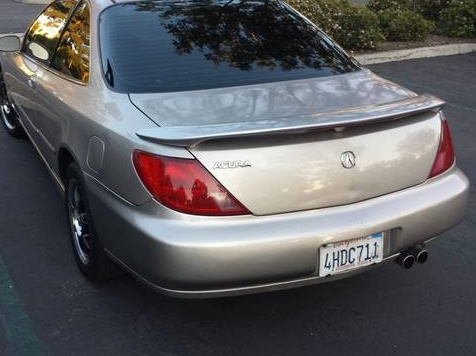acura: (1, 1, 476, 326)
